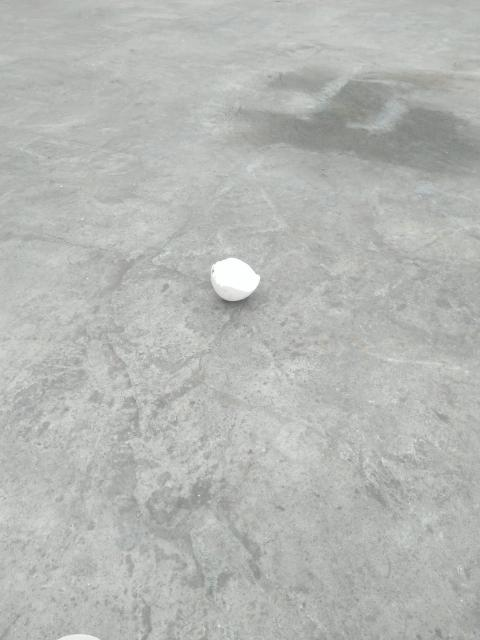Roto: (210, 256, 260, 302)
